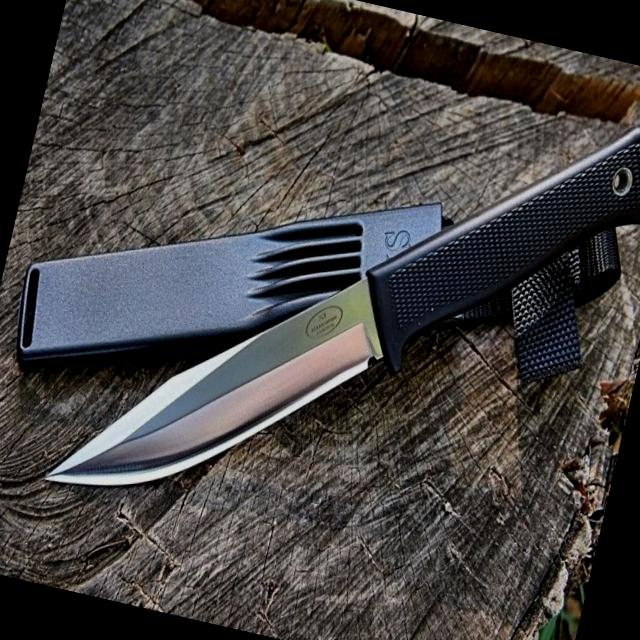knife: (35, 207, 408, 553)
